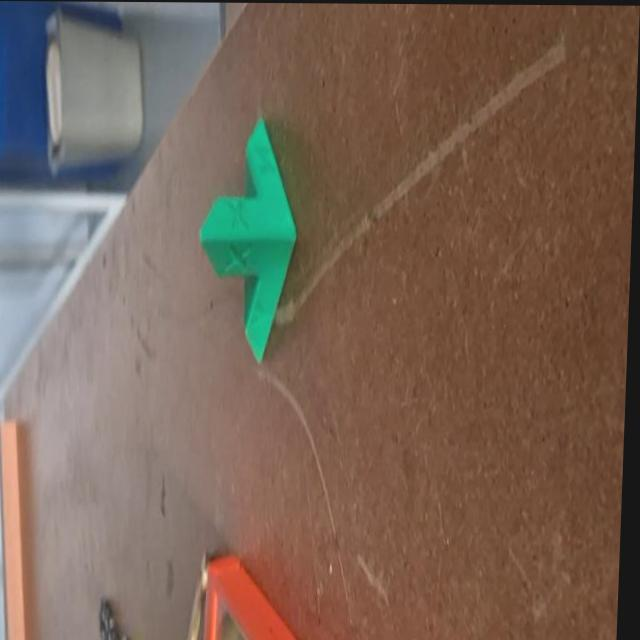eje: (193, 113, 303, 366)
